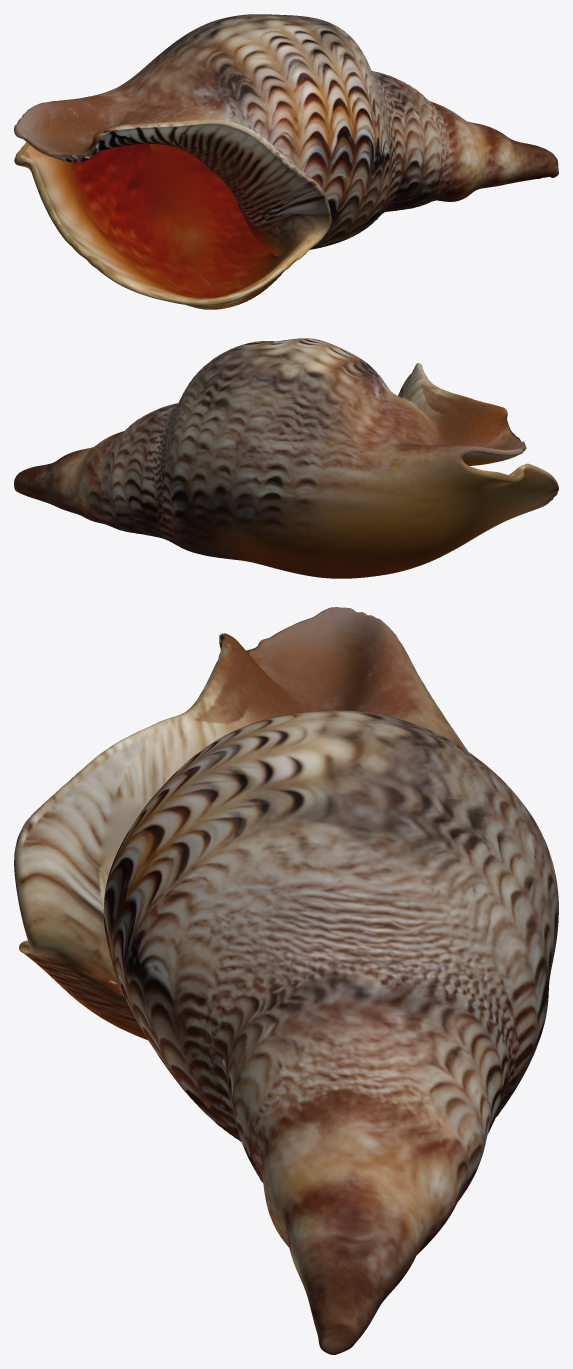
The model's file is papua-barat-daya.glb.
3 views of the same model, one above another, from view 1: azimuth 30°, elevation 25°; view 2: azimuth 150°, elevation 25°; view 3: azimuth 270°, elevation 25° (orthographic). The views are drawn at different scales.
Parts seen in each view (by area): view 1: node_0; view 2: node_0; view 3: node_0.
Boxes of the visible parts, bbox=[...] form: node_0: bbox=[14, 14, 558, 309]; node_0: bbox=[14, 338, 558, 578]; node_0: bbox=[14, 607, 558, 1354].
Size of the model in its own units: 1.12 by 0.4379 by 0.57.
Materials: 1 (1 with a texture image).
